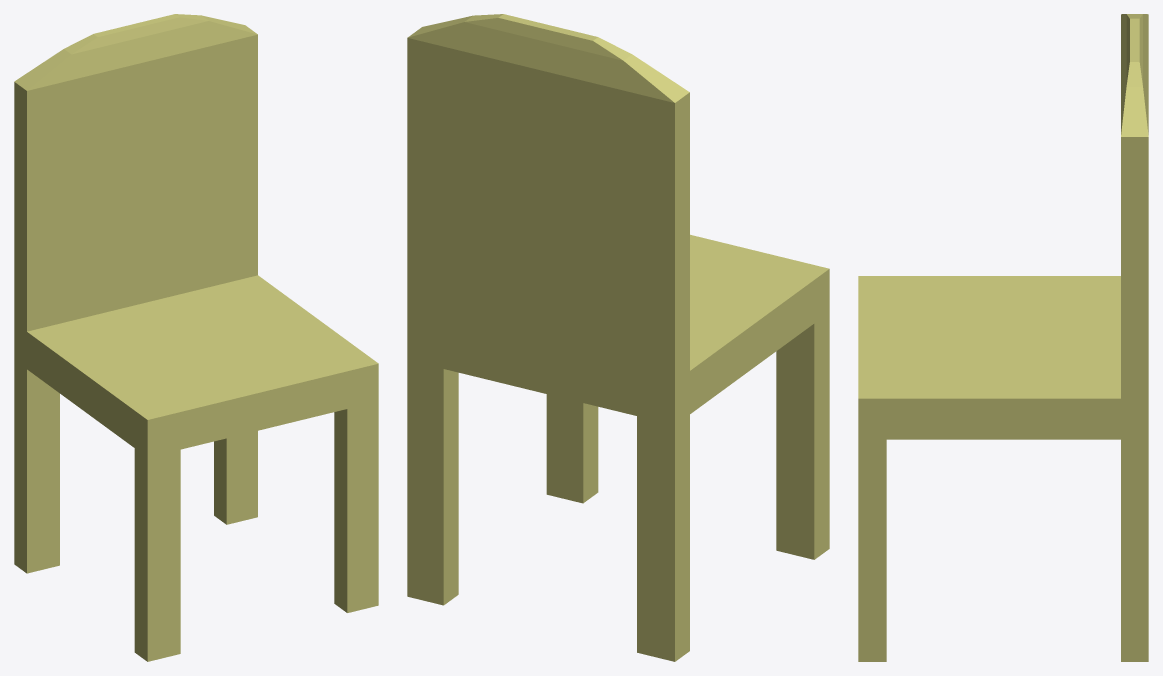
File: wood_chair.fbx
3 renders of one model, left to right at view 1: azimuth 30°, elevation 25°; view 2: azimuth 150°, elevation 25°; view 3: azimuth 270°, elevation 25°, orthographic. The views are drawn at different scales.
Parts seen in each view (by area): view 1: Wood_Chair; view 2: Wood_Chair; view 3: Wood_Chair.
Boxes of the visible parts, left/top/right/bottom form: Wood_Chair: left=14, top=14, right=378, bottom=661; Wood_Chair: left=407, top=14, right=829, bottom=661; Wood_Chair: left=858, top=14, right=1148, bottom=661.
Bounding box in the file's own units: 200 × 426 × 200.
